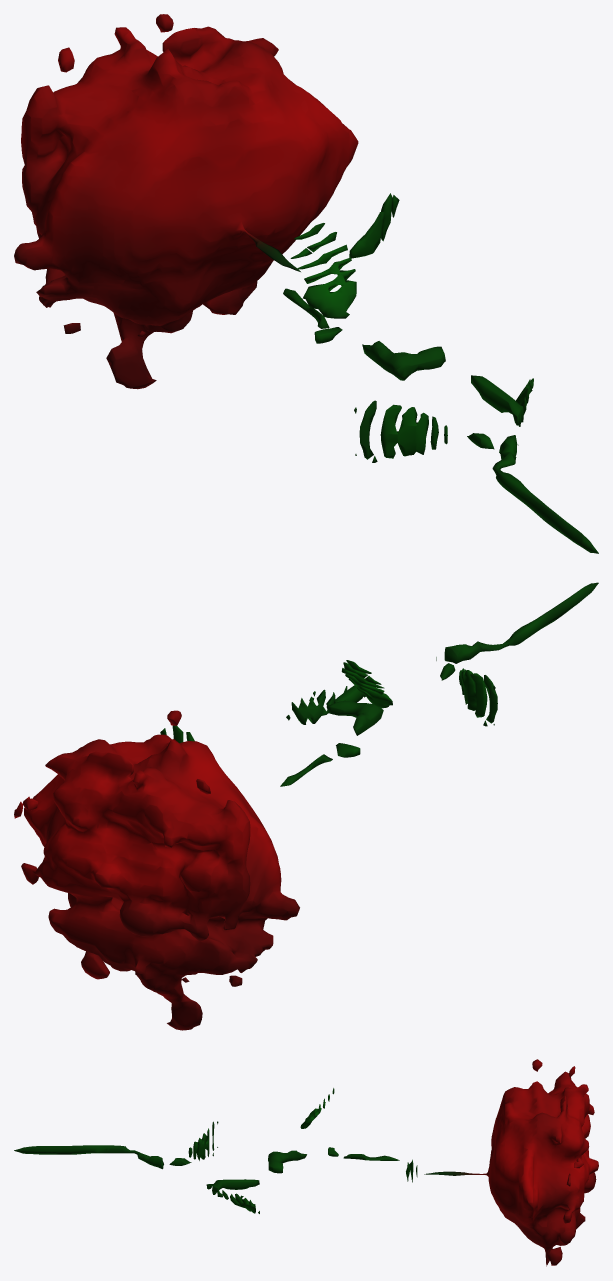
3 renders of one model, top to bottom at view 1: azimuth 30°, elevation 25°; view 2: azimuth 150°, elevation 25°; view 3: azimuth 270°, elevation 25°, orthographic. The views are drawn at different scales.
Visible parts, largest first — view 1: plyFile; view 2: plyFile; view 3: plyFile.
Part boxes in pixels (x1,y1,x2,y2): plyFile: [14, 14, 598, 553]; plyFile: [14, 582, 598, 1030]; plyFile: [14, 1059, 598, 1266].
Size of the model in its own units: 71.83 by 77 by 196.
